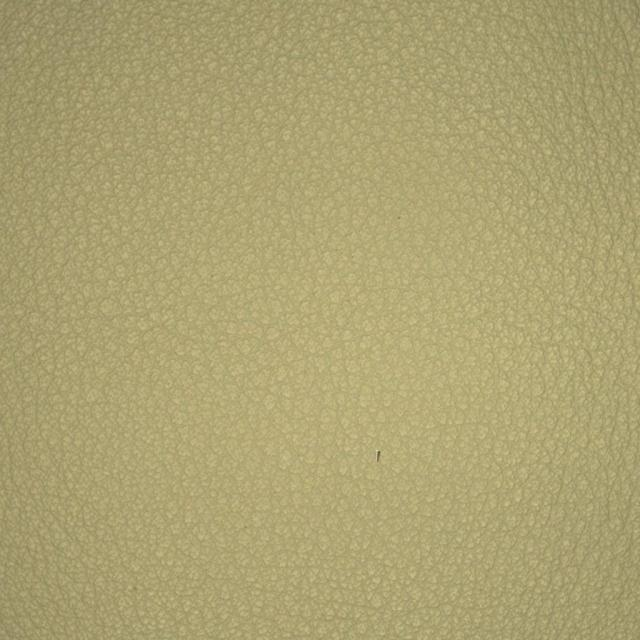Scratch: (279, 404, 477, 525)
